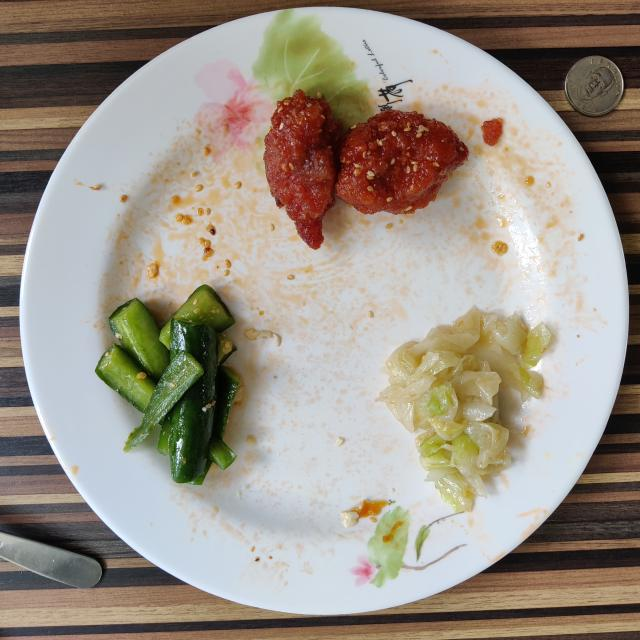cabbage: (378, 306, 551, 512)
coin: (565, 55, 624, 116)
cucumber: (95, 285, 240, 485)
